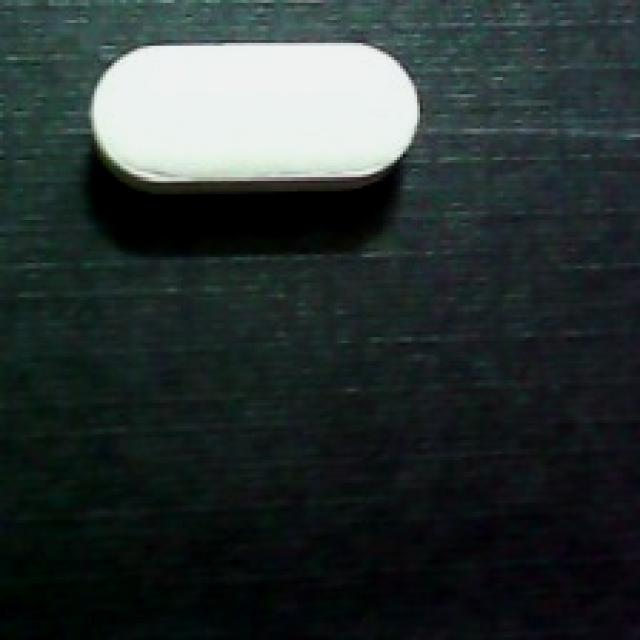no-defect: (86, 26, 423, 203)
